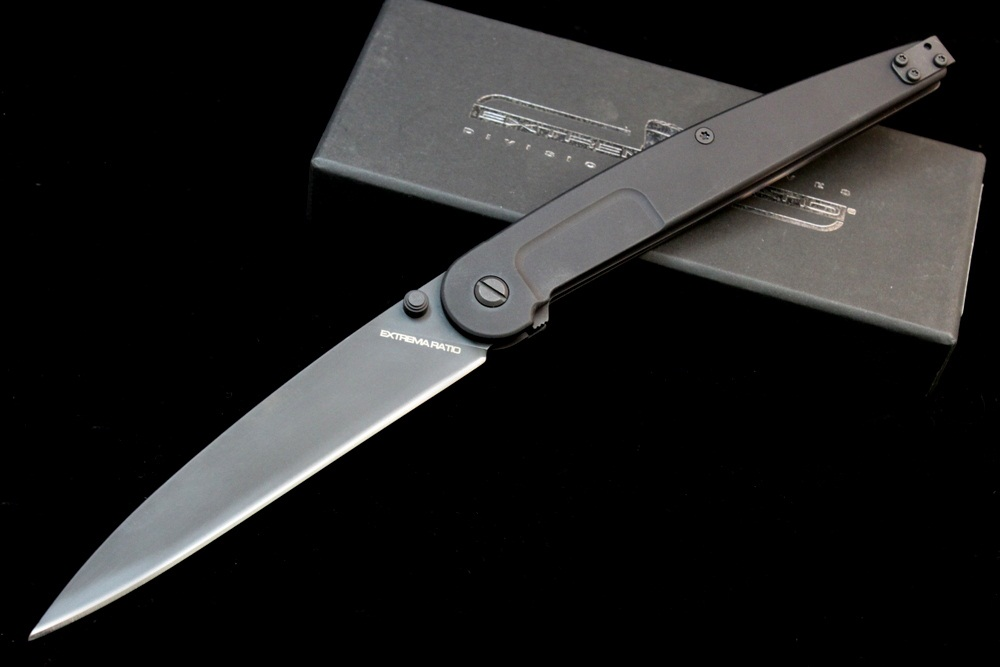knife: (22, 268, 492, 655)
